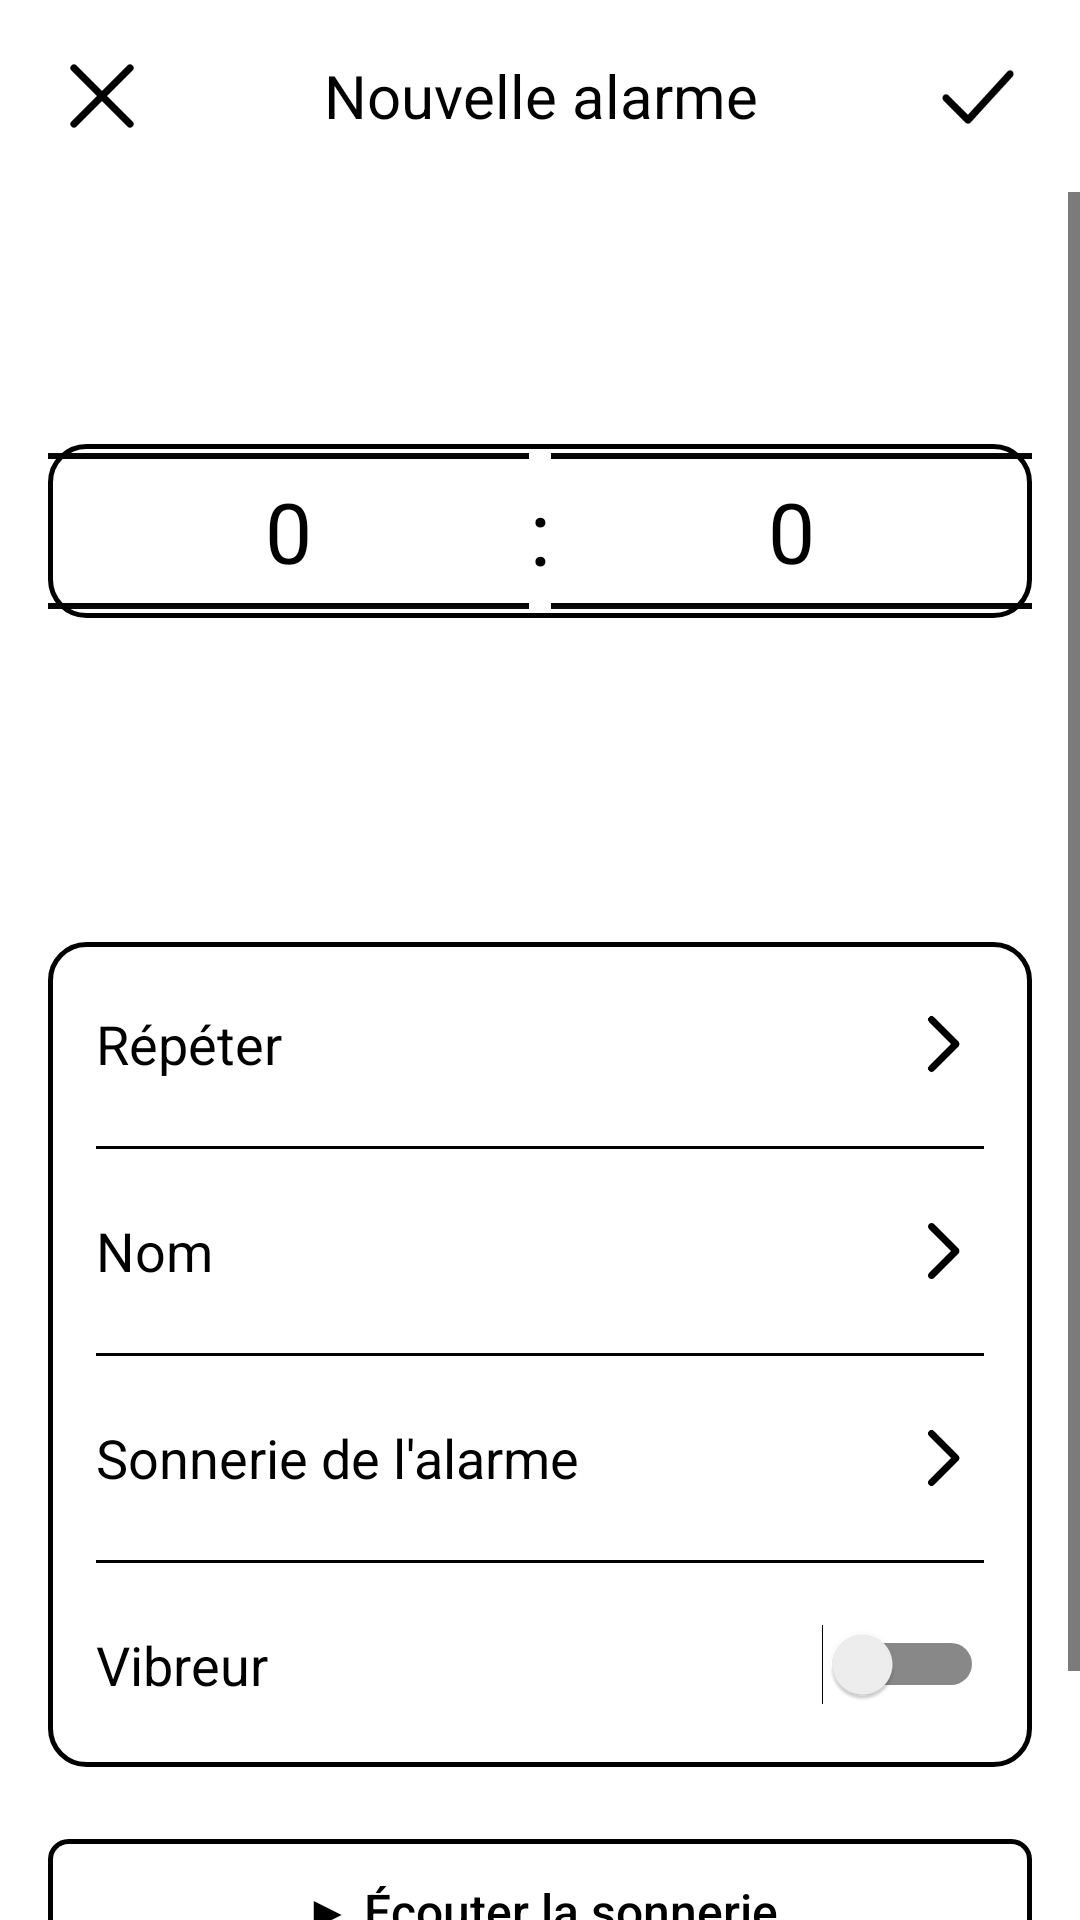

Icons on this 1080×1920 Android screen, each with its box as (x1, y1, x2, y2):
Annuler: (70, 64, 134, 128)
Enregistrer: (942, 70, 1014, 124)
